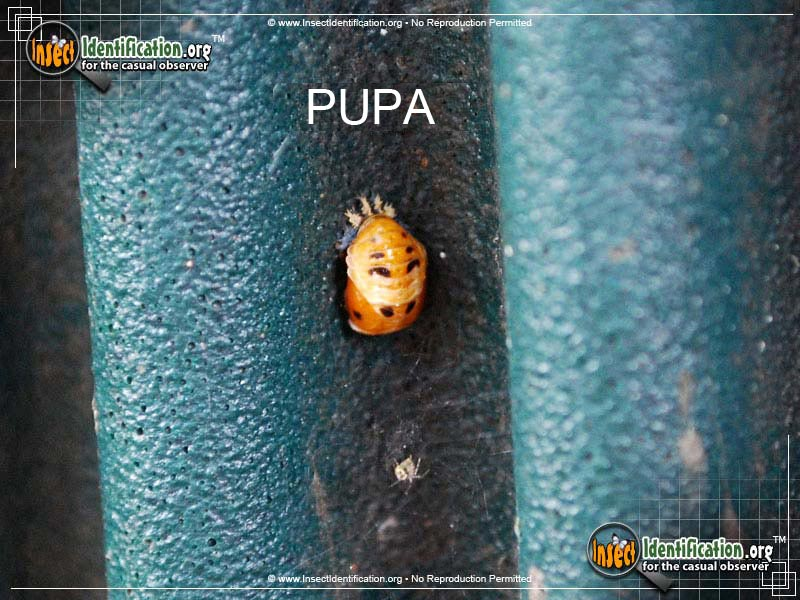Asian Multicolored Lady Beetle: (322, 190, 434, 353)
